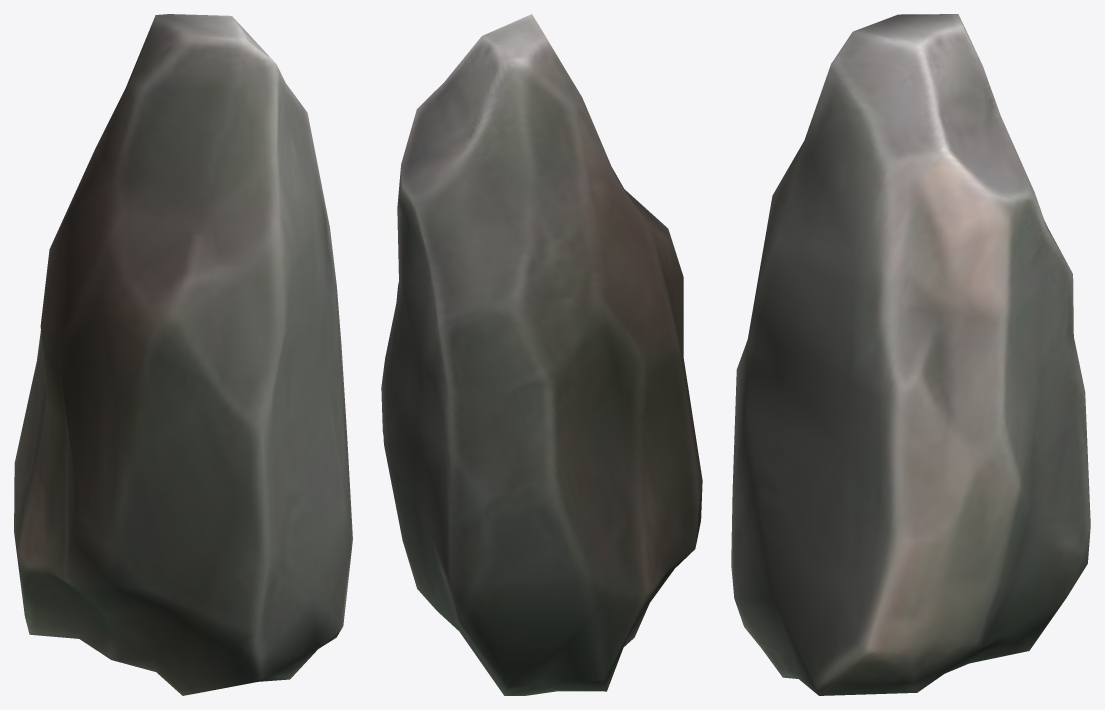
File: sp-runenstein-7.glb
3 renders of one model, left to right at view 1: azimuth 30°, elevation 25°; view 2: azimuth 150°, elevation 25°; view 3: azimuth 270°, elevation 25°, orthographic. The views are drawn at different scales.
Parts seen in each view (by area): view 1: sp-runenstein-7; view 2: sp-runenstein-7; view 3: sp-runenstein-7.
Part boxes in pixels (<box>): sp-runenstein-7: <box>14,14,352,695</box>; sp-runenstein-7: <box>381,14,702,695</box>; sp-runenstein-7: <box>731,14,1090,695</box>.
Bounding box in the file's own units: 0.7184 × 1.47 × 0.7262.
Materials: 1 (1 with a texture image).
